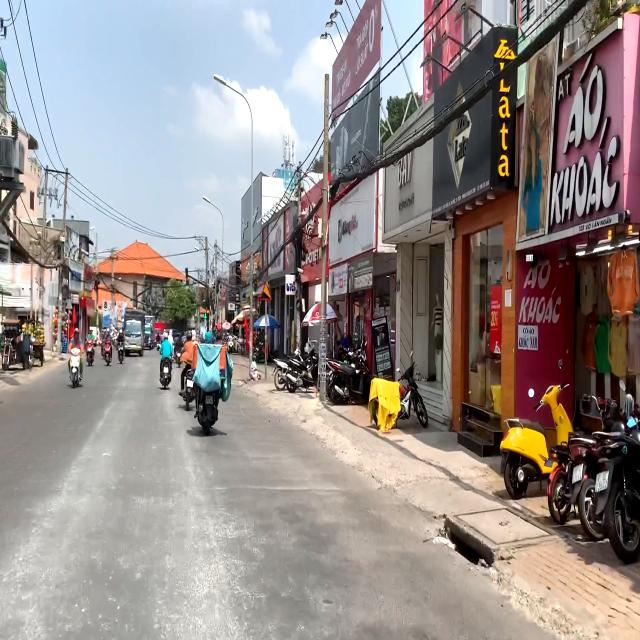W.219: (259, 281, 272, 301)
